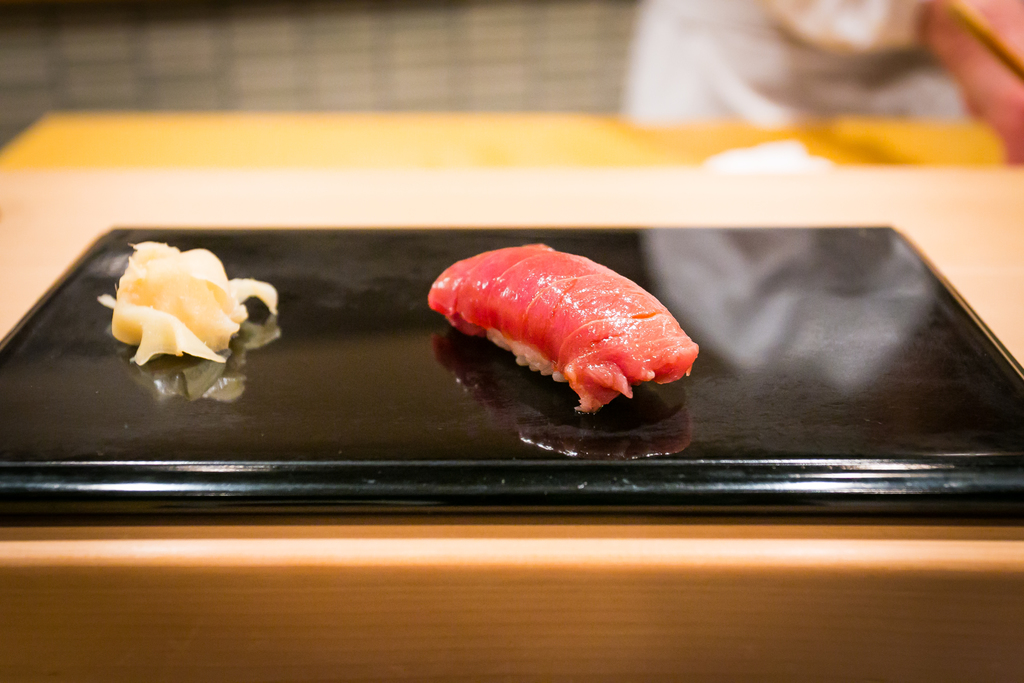sushi: (406, 246, 725, 434)
